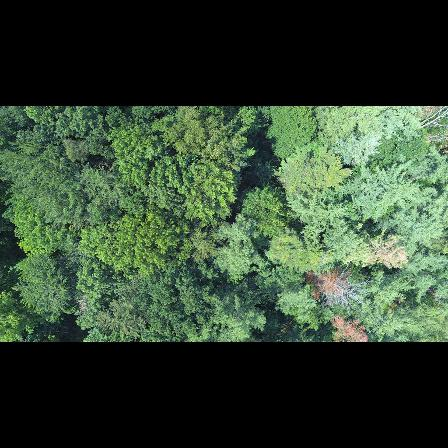Dead: (313, 261, 371, 310)
